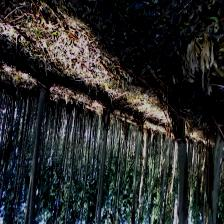trunk: (28, 83, 49, 219), (170, 95, 189, 222), (97, 107, 112, 221), (208, 134, 223, 223), (131, 119, 144, 218)
